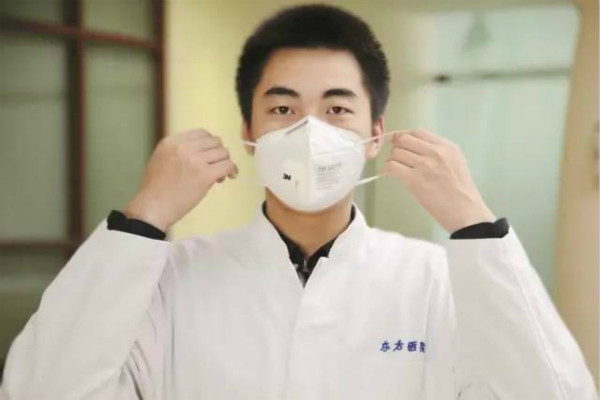mask_weared_incorrect: (211, 4, 414, 217)
